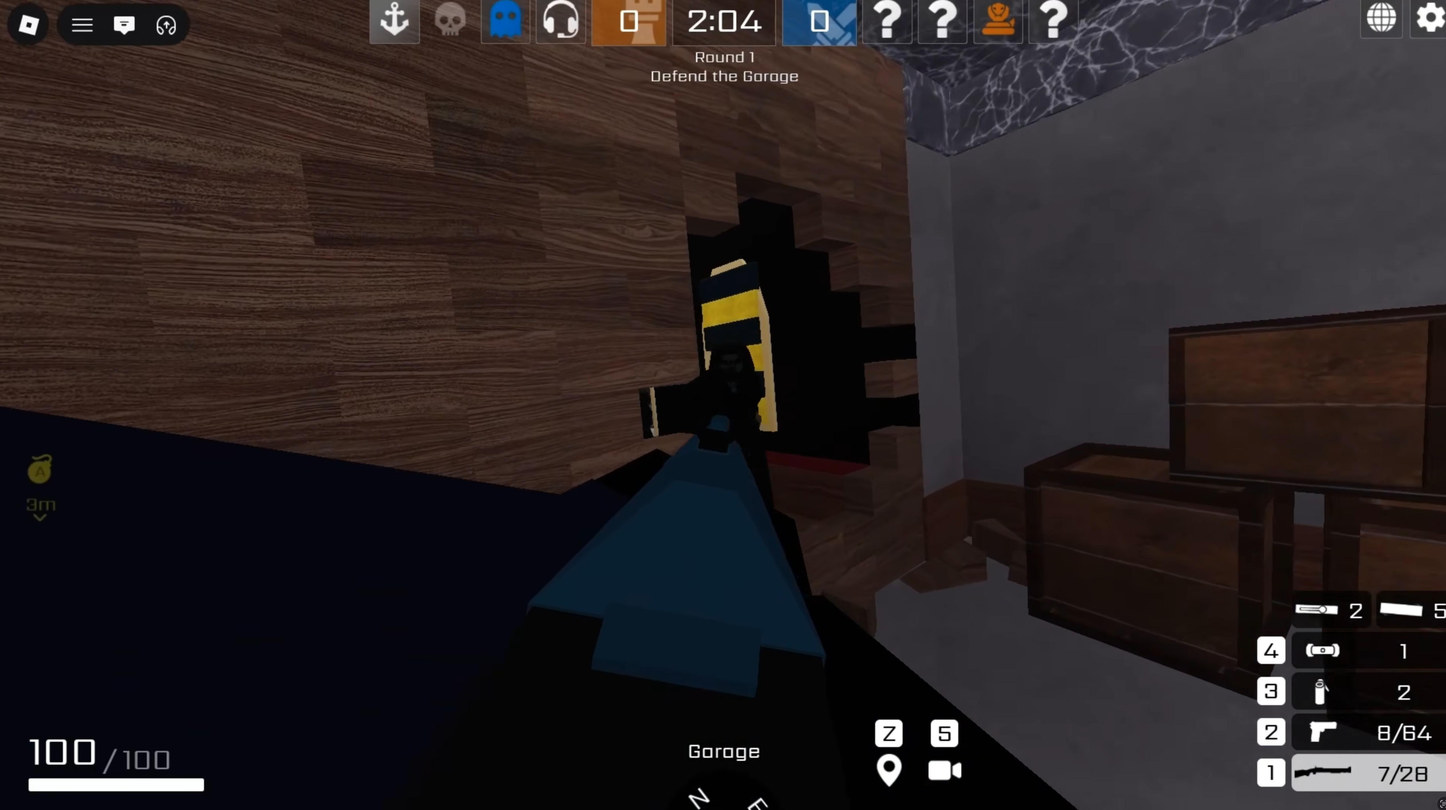enemy: (678, 337, 789, 508)
